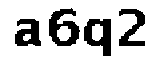2: (115, 7, 152, 50)
6: (48, 5, 81, 50)
a: (11, 18, 43, 51)
q: (82, 17, 112, 60)
